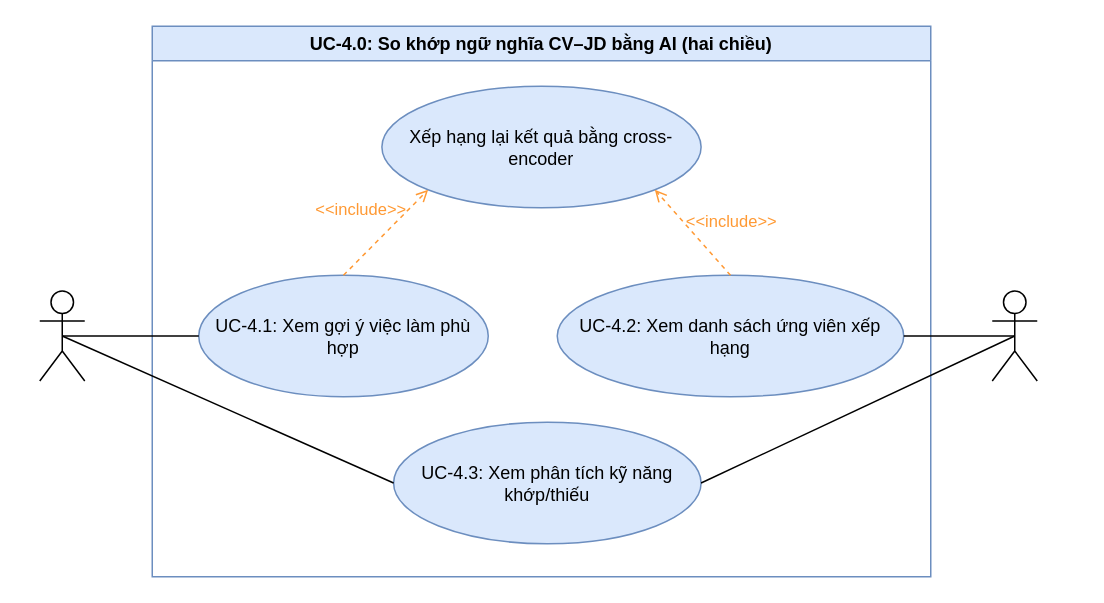
The diagram is 1104 pixels wide and 603 high, and some of its shapes have lost their labels. Each missing label, with the centre of its shape:
"Nhà tuyển dụng" goes at [1014,335].
"Ứng viên" goes at [61,335].
